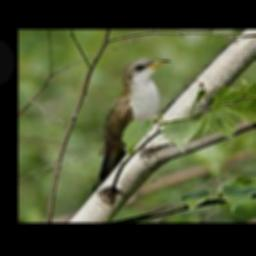Cuckoo: (92, 57, 170, 193)
